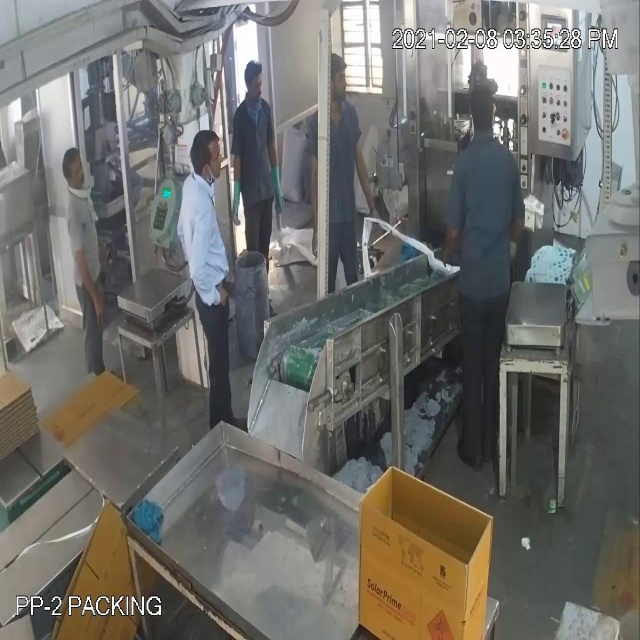Guantes: (220, 160, 250, 243), (263, 139, 283, 218)
Sin_guantes: (182, 195, 232, 317), (345, 121, 388, 232), (61, 226, 109, 323), (303, 141, 326, 273)
